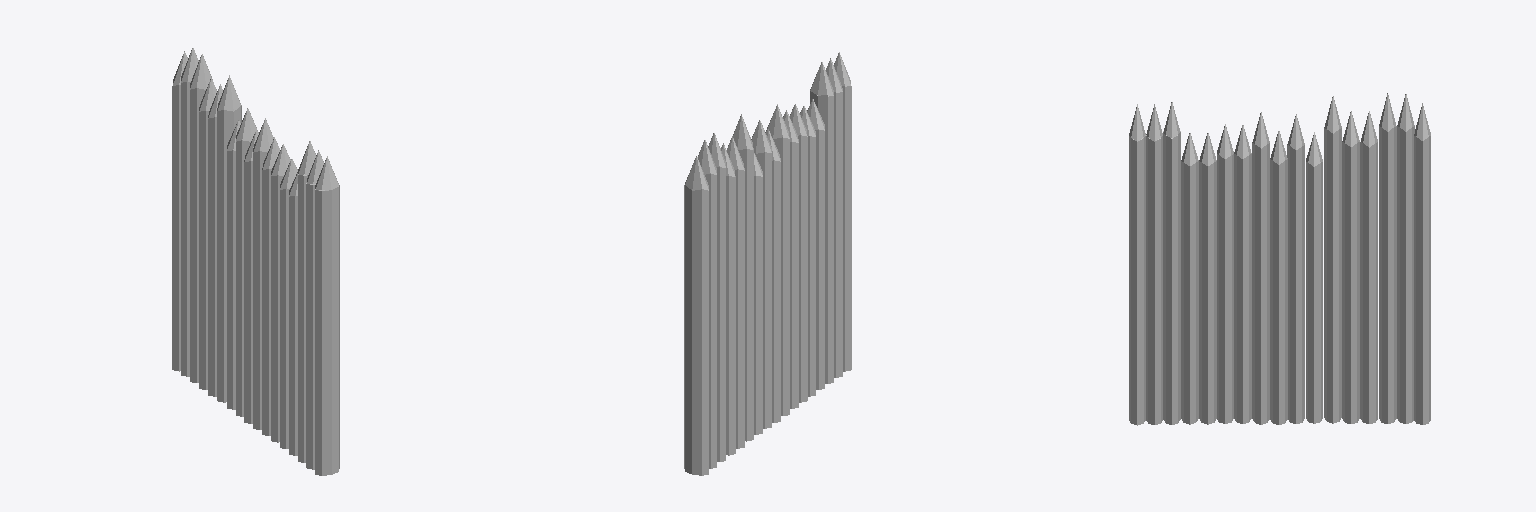
Rendered from palisade.obj.
The picture shows the model from 3 angles: view 1: azimuth 30°, elevation 25°; view 2: azimuth 150°, elevation 25°; view 3: azimuth 270°, elevation 25°; orthographic projection.
Parts seen in each view (by area): view 1: palisade_Cylinder.002; view 2: palisade_Cylinder.002; view 3: palisade_Cylinder.002.
Part boxes in pixels (left/top/right/bottom): palisade_Cylinder.002: left=172, top=48, right=339, bottom=475; palisade_Cylinder.002: left=684, top=52, right=851, bottom=475; palisade_Cylinder.002: left=1129, top=93, right=1430, bottom=425.
Size of the model in its own units: 0.1912 by 2.44 by 2.05.